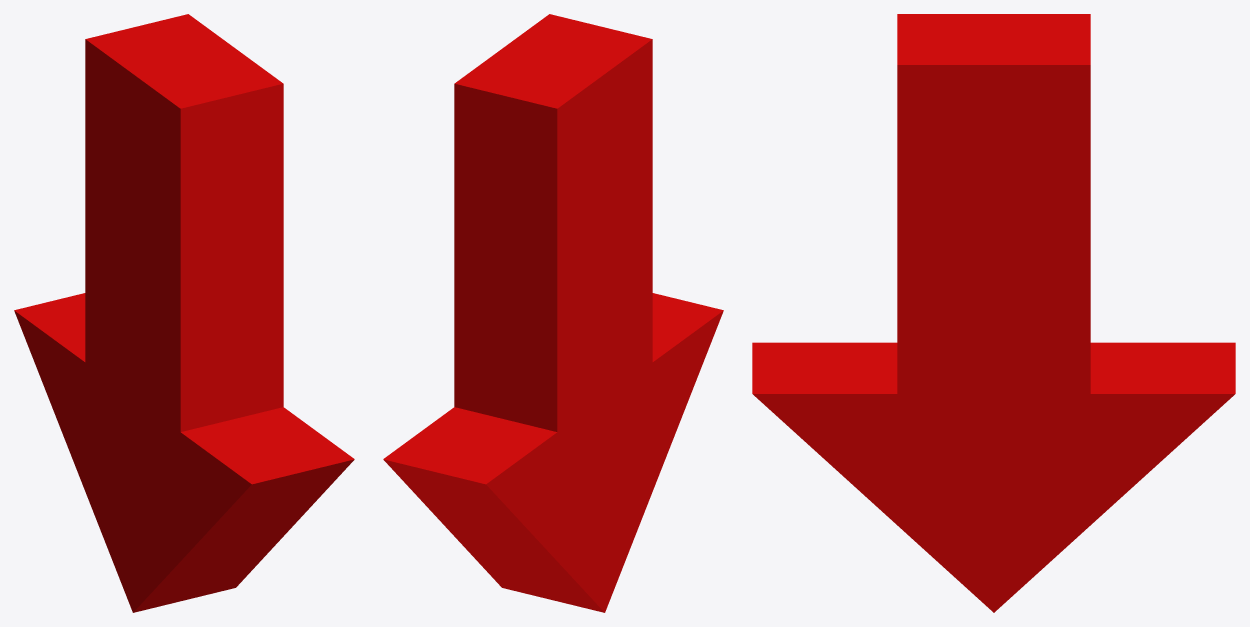
File: red_arrow.fbx
The picture shows the model from 3 angles, left to right: view 1: azimuth 30°, elevation 25°; view 2: azimuth 150°, elevation 25°; view 3: azimuth 270°, elevation 25°; orthographic projection.
Visible parts, largest first — view 1: pCube1158; view 2: pCube1158; view 3: pCube1158.
Part boxes in pixels (x1,y1,x2,y2): pCube1158: [14, 14, 354, 612]; pCube1158: [383, 14, 723, 612]; pCube1158: [752, 14, 1235, 612].
Size of the model in its own units: 0.25 by 1.25 by 1.
